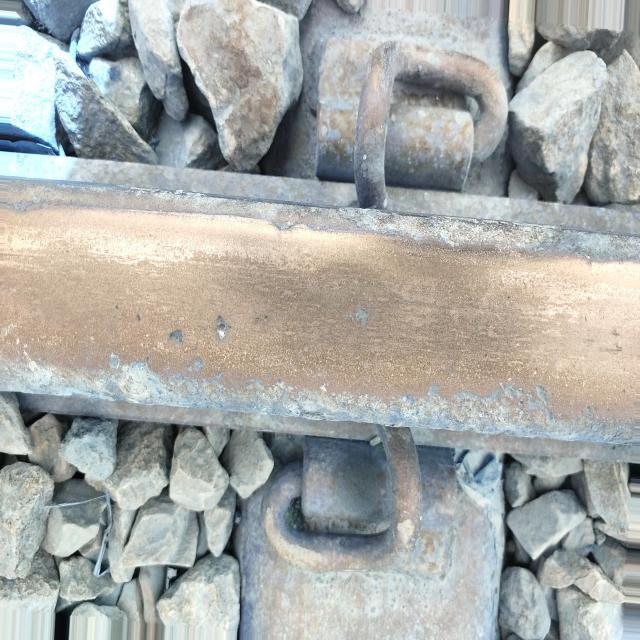squats_high: (101, 354, 392, 431), (213, 312, 233, 340), (355, 301, 371, 325), (166, 330, 185, 347)
